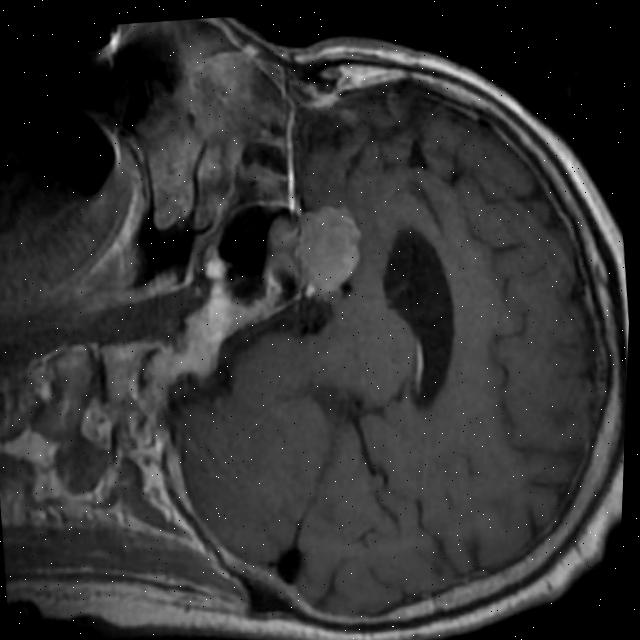Pituitary: (253, 198, 368, 302)
